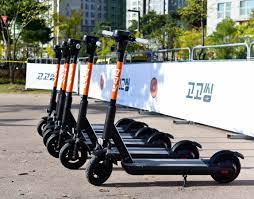kick_board: (88, 29, 241, 184)
kick_body: (131, 159, 208, 175), (111, 147, 168, 157)
kick_handler: (101, 29, 148, 43), (80, 35, 101, 45)
kick_neck: (106, 57, 123, 137), (81, 58, 93, 127)
kick_wheel: (211, 150, 241, 183), (87, 155, 113, 186), (59, 142, 87, 168), (48, 132, 70, 157), (172, 141, 200, 159), (149, 134, 170, 146)
